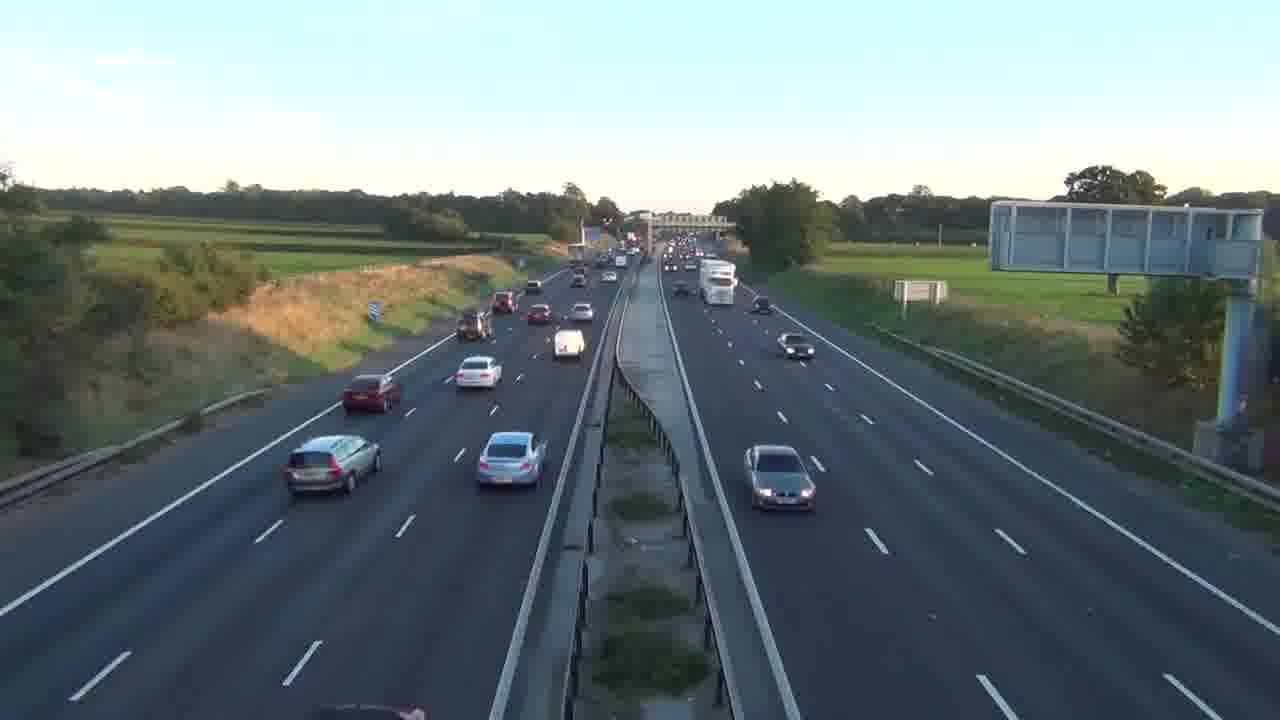car: (281, 432, 382, 498), (744, 443, 818, 512), (475, 431, 549, 489), (342, 375, 389, 415), (453, 354, 503, 390), (526, 303, 552, 325)
truck: (699, 259, 738, 305)
